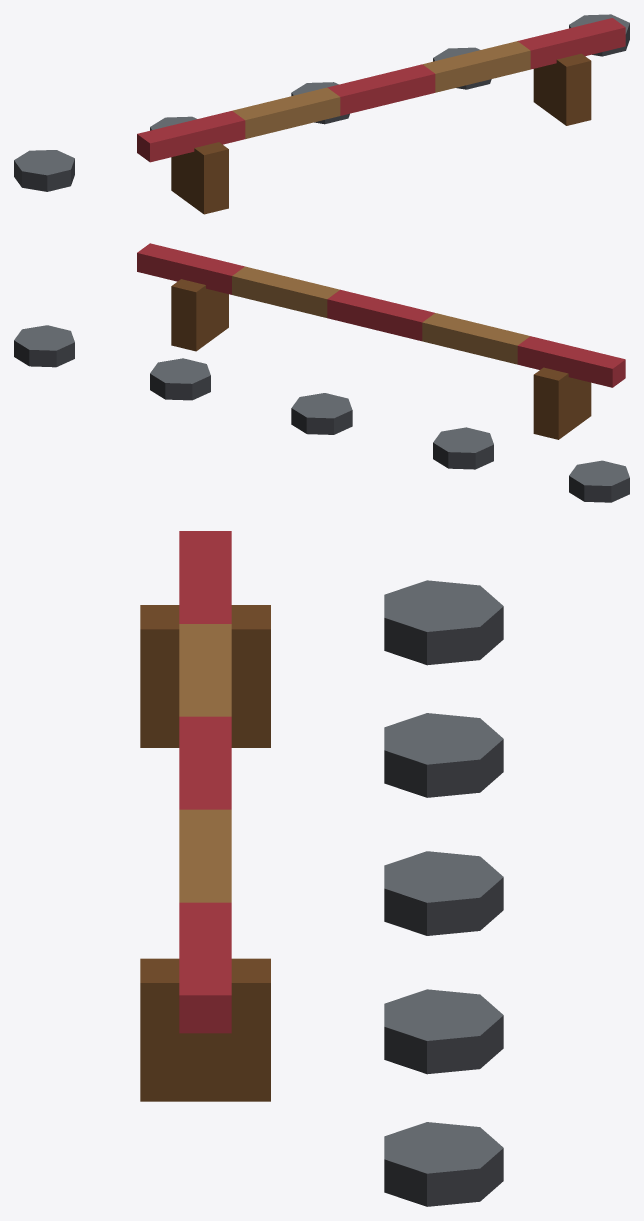
The model's file is Garden_BalanceBeam.glb.
The picture shows the model from 3 angles, top to bottom: view 1: azimuth 30°, elevation 25°; view 2: azimuth 150°, elevation 25°; view 3: azimuth 270°, elevation 25°; orthographic projection. The views are drawn at different scales.
Visible parts, largest first — view 1: BalanceBeam; view 2: BalanceBeam; view 3: BalanceBeam.
Part boxes in pixels (box(x1,y1,x2,y2)): BalanceBeam: box(14, 14, 629, 214); BalanceBeam: box(14, 243, 629, 502); BalanceBeam: box(140, 531, 503, 1206).
Size of the model in its own units: 5.37 by 0.63 by 1.39.
